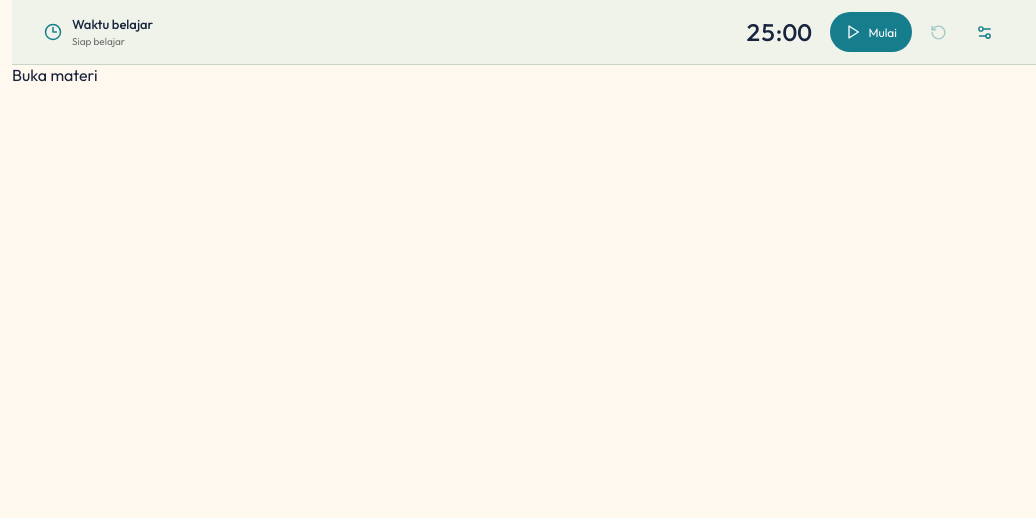
Test: global study countdown › keeps the countdown usable when browser storage is blocked
Click the button with aria-label "Mulai timer belajar" at (871, 32), box [830,12,912,52]
Wait 1000 ms
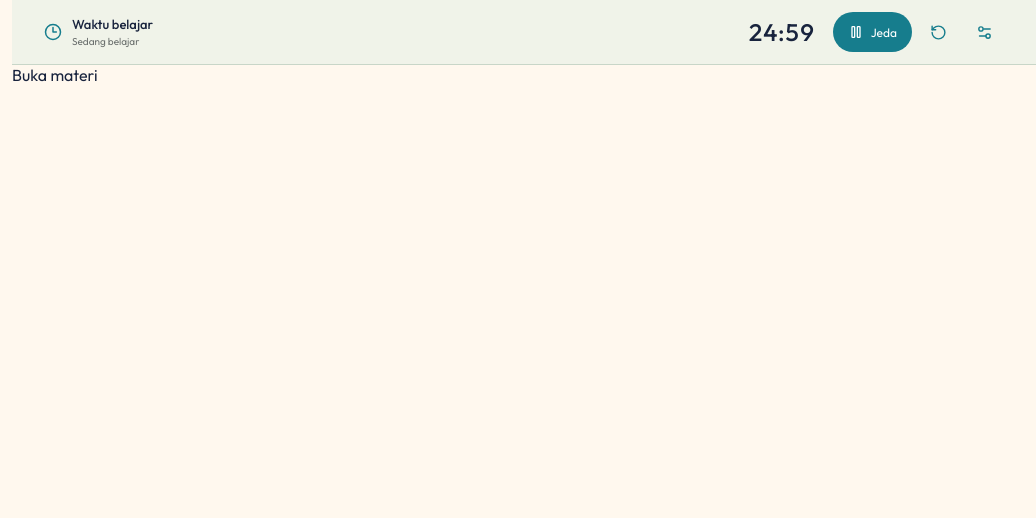
Check: the text "24:59" is shown, box [748,18,815,46]
Click the button named "Atur timer belajar" at (984, 32), box [964,12,1004,52]
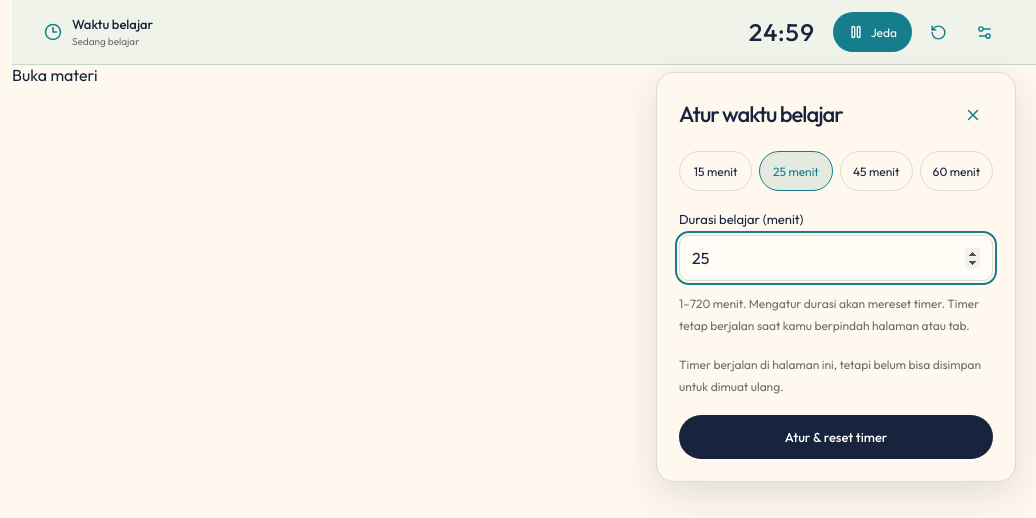
Check: the message "Timer berjalan di halaman ini, tetapi belum bisa disimpan untuk dimuat ulang." is shown, box [679,354,993,397]
